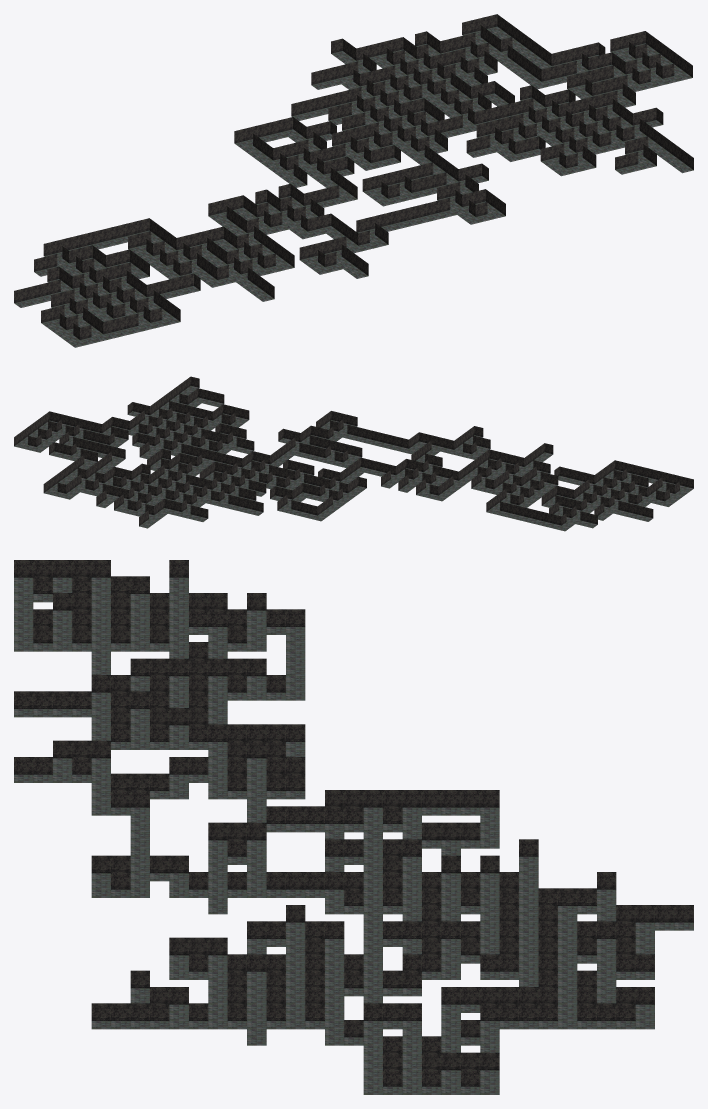
Rendered from Labrinth.glb.
3 views of the same model, one above another, from view 1: azimuth 30°, elevation 25°; view 2: azimuth 150°, elevation 25°; view 3: azimuth 270°, elevation 25° (orthographic). The views are drawn at different scales.
Visible parts, largest first — view 1: file1; view 2: file1; view 3: file1.
Boxes of the visible parts, x1,y1,x2,y2 form: file1: (14,14,693,347); file1: (14,376,693,531); file1: (14,560,693,1094).
Bounding box in the file's own units: 252 × 4 × 140.
Materials: 3 (3 with a texture image).
